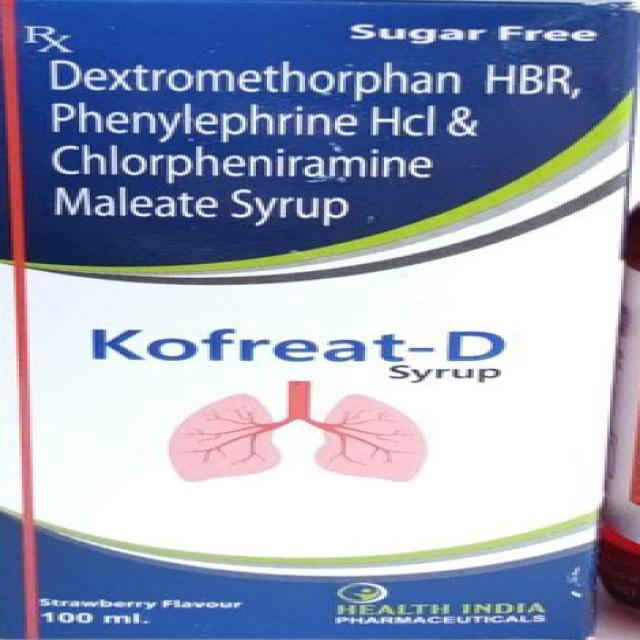drug-name: (80, 324, 505, 366)
